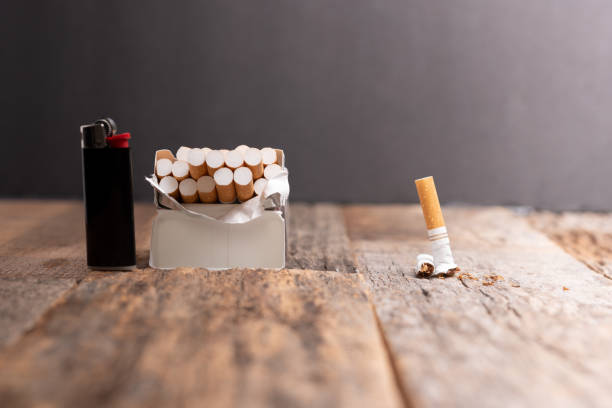cigarette: (144, 146, 291, 270), (413, 172, 459, 278), (213, 167, 233, 203), (233, 166, 252, 203), (243, 147, 264, 177), (158, 175, 179, 202), (196, 175, 215, 203), (189, 148, 205, 178), (224, 149, 244, 172), (417, 253, 436, 277), (207, 149, 224, 175), (179, 179, 197, 203), (260, 147, 279, 166), (156, 158, 172, 180), (172, 160, 190, 179), (252, 178, 269, 195), (264, 163, 281, 178)
